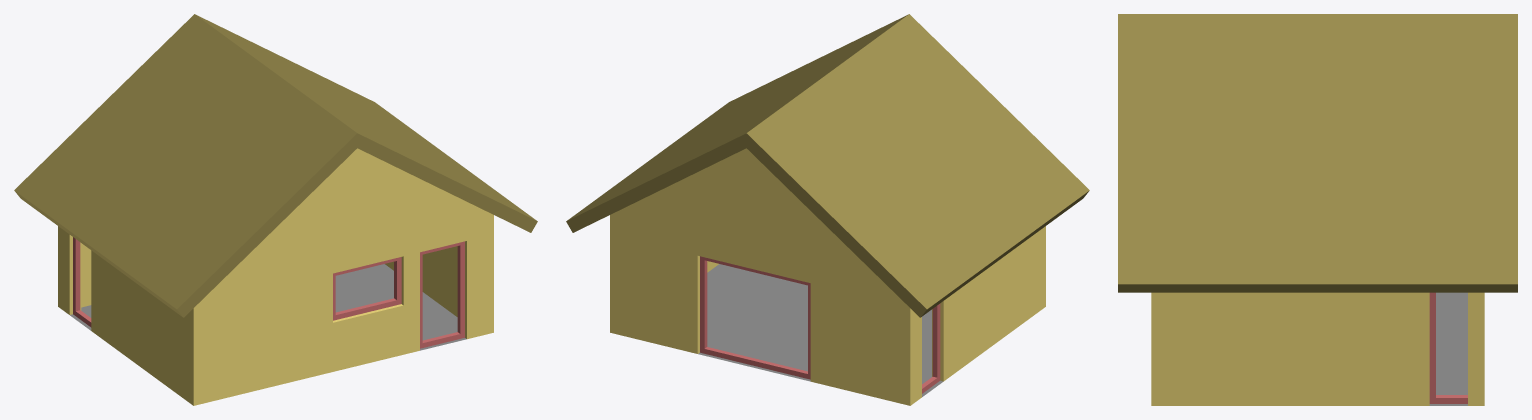
The model's file is result.glb.
The picture shows the model from 3 angles, left to right: view 1: azimuth 30°, elevation 25°; view 2: azimuth 150°, elevation 25°; view 3: azimuth 270°, elevation 25°; orthographic projection. The views are drawn at different scales.
Visible parts, largest first — view 1: aa8490f7-5024-4584-9df3-22f8e3cf4541__undefined (×2), 449854d6-ebd8-4f2b-88af-6bb41a277aea__undefined, c68e9172-da11-47ed-b00d-e4a8cab8f7a4__Plane_6, c85f9275-d9a1-43c1-9236-d1c7a9a07d39__Box, 930c1a0e-9208-42bf-8f23-5c81ed6b89d3__Box_3, a1abbc39-daf6-4ac4-83b5-0c8759c774ec__Box_12; view 2: aa8490f7-5024-4584-9df3-22f8e3cf4541__undefined (×2), 449854d6-ebd8-4f2b-88af-6bb41a277aea__undefined, c68e9172-da11-47ed-b00d-e4a8cab8f7a4__Plane_6, a1143ca5-8e9f-441f-b975-fc939b2ddb07__Box_9, a1abbc39-daf6-4ac4-83b5-0c8759c774ec__Box_12; view 3: aa8490f7-5024-4584-9df3-22f8e3cf4541__undefined, 449854d6-ebd8-4f2b-88af-6bb41a277aea__undefined, c68e9172-da11-47ed-b00d-e4a8cab8f7a4__Plane_6, 3c898763-c135-49ec-afa9-b896adaae825__Box_15.
Boxes of the visible parts, left/top/right/bottom form: aa8490f7-5024-4584-9df3-22f8e3cf4541__undefined (×2): left=14, top=14, right=537, bottom=317; 449854d6-ebd8-4f2b-88af-6bb41a277aea__undefined: left=58, top=148, right=493, bottom=405; c68e9172-da11-47ed-b00d-e4a8cab8f7a4__Plane_6: left=70, top=264, right=466, bottom=350; c85f9275-d9a1-43c1-9236-d1c7a9a07d39__Box: left=420, top=241, right=464, bottom=348; 930c1a0e-9208-42bf-8f23-5c81ed6b89d3__Box_3: left=333, top=257, right=401, bottom=320; a1abbc39-daf6-4ac4-83b5-0c8759c774ec__Box_12: left=73, top=237, right=91, bottom=327; aa8490f7-5024-4584-9df3-22f8e3cf4541__undefined (×2): left=566, top=14, right=1089, bottom=317; 449854d6-ebd8-4f2b-88af-6bb41a277aea__undefined: left=610, top=148, right=1045, bottom=405; c68e9172-da11-47ed-b00d-e4a8cab8f7a4__Plane_6: left=698, top=264, right=943, bottom=396; a1143ca5-8e9f-441f-b975-fc939b2ddb07__Box_9: left=700, top=256, right=810, bottom=379; a1abbc39-daf6-4ac4-83b5-0c8759c774ec__Box_12: left=922, top=303, right=940, bottom=393; aa8490f7-5024-4584-9df3-22f8e3cf4541__undefined: left=1118, top=14, right=1517, bottom=292; 449854d6-ebd8-4f2b-88af-6bb41a277aea__undefined: left=1151, top=292, right=1484, bottom=405; c68e9172-da11-47ed-b00d-e4a8cab8f7a4__Plane_6: left=1429, top=292, right=1467, bottom=405; 3c898763-c135-49ec-afa9-b896adaae825__Box_15: left=1429, top=292, right=1467, bottom=403.
Bounding box in the file's own units: 768 × 500 × 600.
